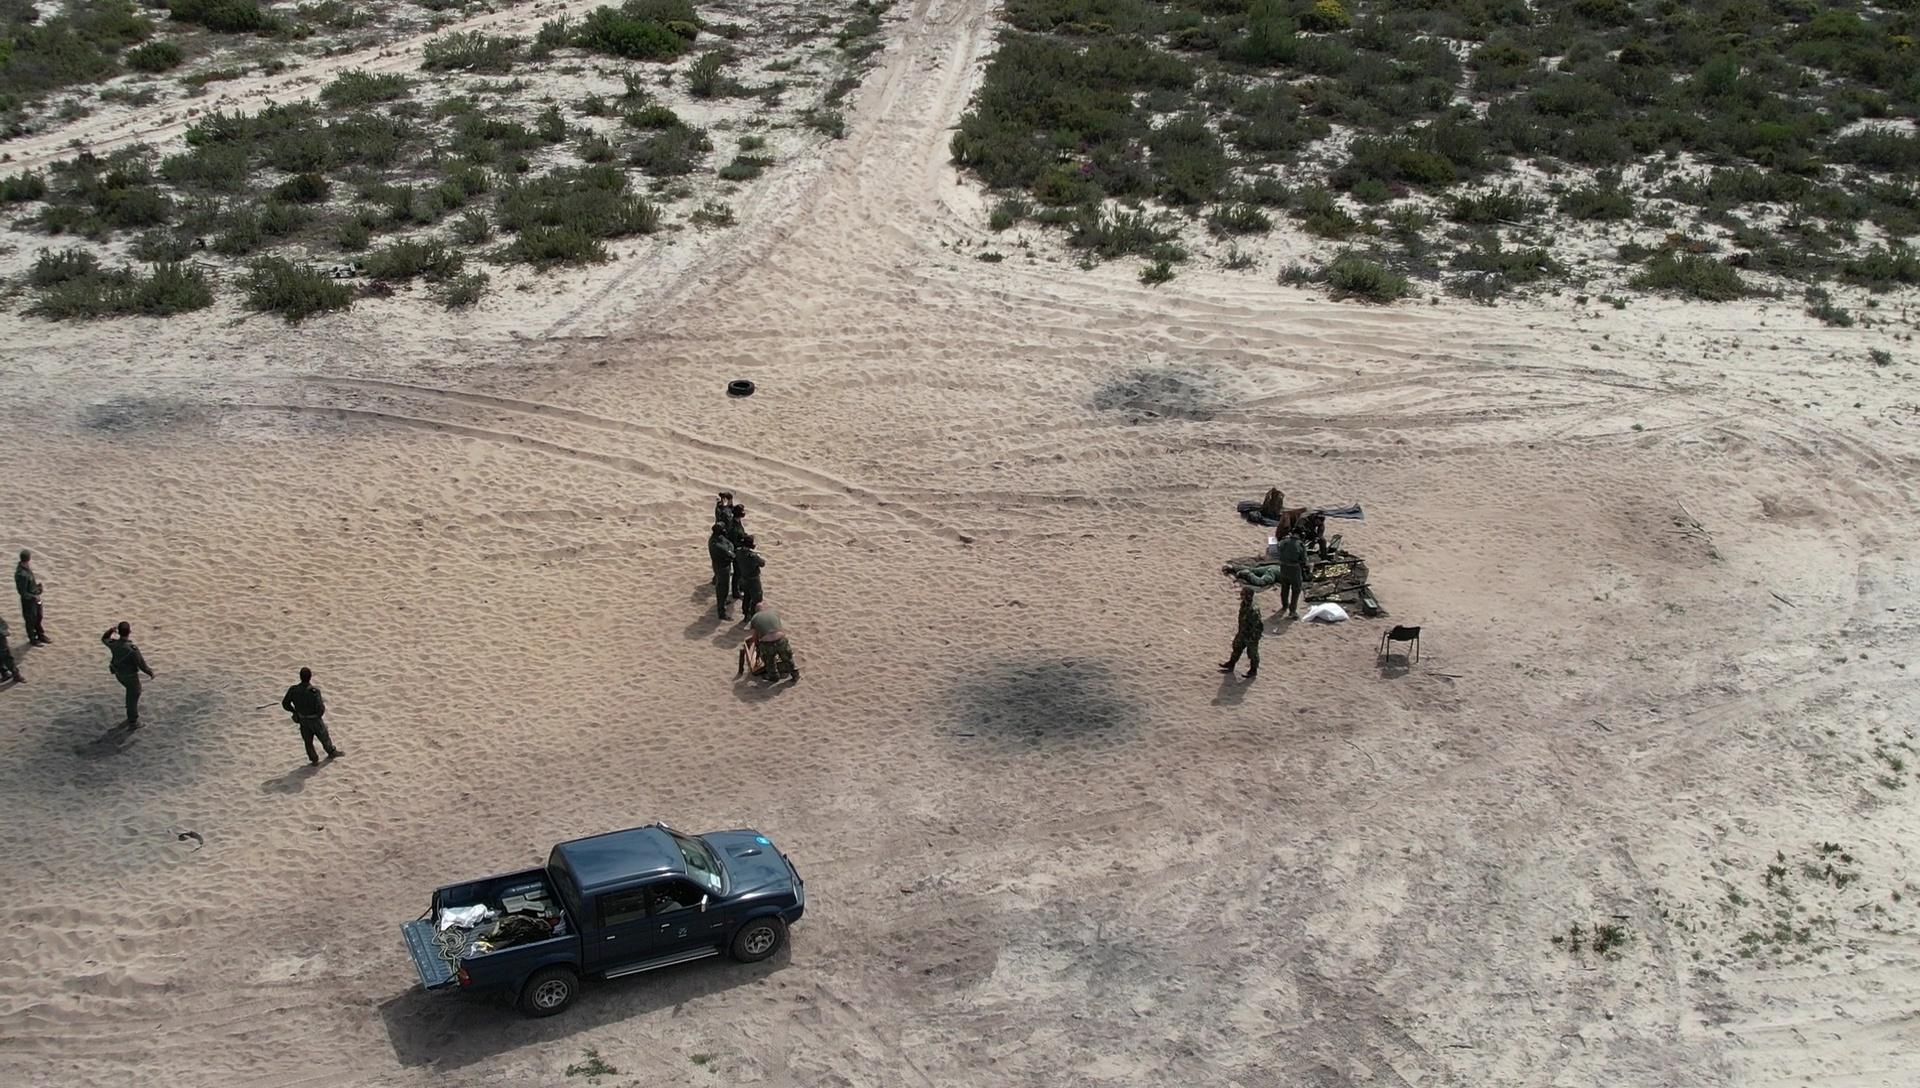Soldier: (270, 658, 349, 790), (87, 619, 169, 729), (723, 601, 802, 707), (3, 553, 61, 655), (1226, 576, 1271, 698), (709, 524, 767, 612), (709, 524, 752, 608), (1275, 520, 1309, 619), (1267, 550, 1333, 600), (704, 510, 735, 570)
